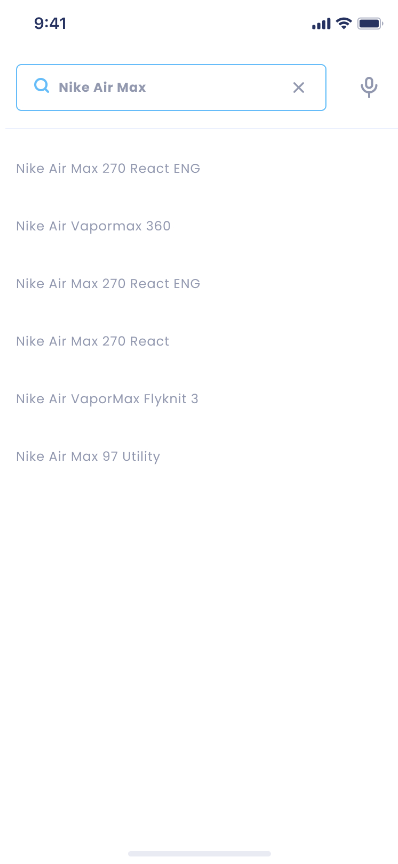Input: (13, 61, 328, 115)
